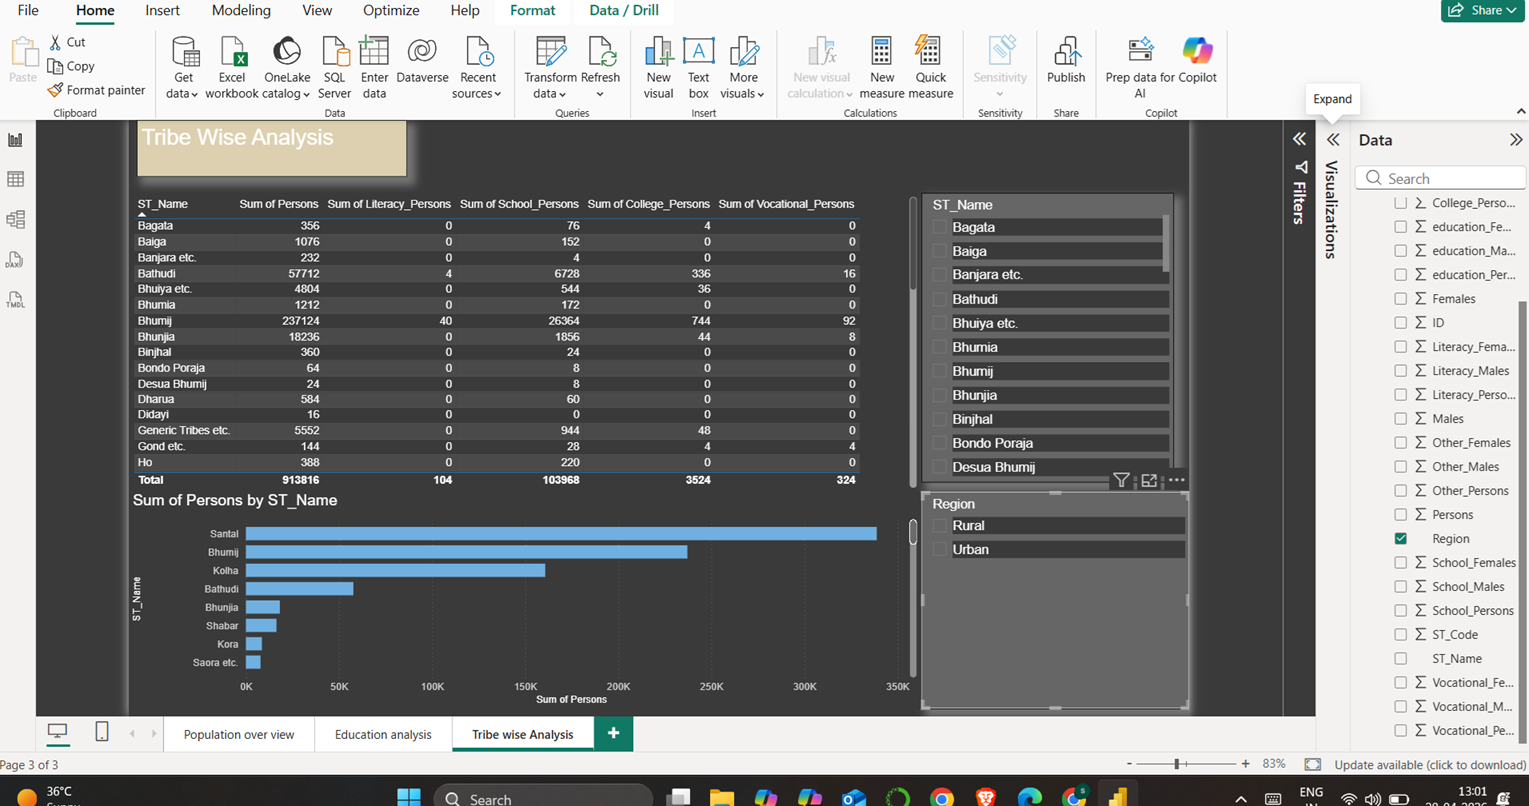

What the dashboard file says about the page in this screenshot:
{"tool":"powerbi","page":{"name":"Tribe wise Analysis","canvas":[1280,720],"ordinal":2},"visuals":[{"type":"textbox","box":[9.6,0,326.6,68.6],"z":0},{"type":"tableEx","fields":{"Values":["baleshwar_cleaned_final.ST_Name","Sum(baleshwar_cleaned_final.Persons)","Sum(baleshwar_cleaned_final.Literacy_Persons)","Sum(baleshwar_cleaned_final.School_Persons)","Sum(baleshwar_cleaned_final.College_Persons)","Sum(baleshwar_cleaned_final.Vocational_Persons)"]},"box":[0,87.8,956.4,360.9],"z":1000},{"type":"slicer","fields":{"Values":["baleshwar_cleaned_final.ST_Name"]},"box":[956.4,87.8,304.6,349.9],"z":1001},{"type":"slicer","fields":{"Values":["baleshwar_cleaned_final.Region"]},"box":[956.4,448.7,323.8,262.1],"z":1002},{"type":"barChart","fields":{"Category":["baleshwar_cleaned_final.ST_Name"],"Y":["Sum(baleshwar_cleaned_final.Persons)"]},"box":[0,449,956,262],"z":1003}]}

Visuals, with their boxes on the page's 1280x720 design canvas (x1, y1, x2, y2). These are canvas units, not pixel positions in the 1529x806 screenshot, which may show the page scaled, cropped or inside an application window:
textbox: l=10, t=0, r=336, b=69
tableEx - baleshwar_cleaned_final.ST_Name x Sum(baleshwar_cleaned_final.Persons): l=0, t=88, r=956, b=449
slicer - baleshwar_cleaned_final.ST_Name: l=956, t=88, r=1261, b=438
slicer - baleshwar_cleaned_final.Region: l=956, t=449, r=1280, b=711
barChart - baleshwar_cleaned_final.ST_Name x Sum(baleshwar_cleaned_final.Persons): l=0, t=449, r=956, b=711
